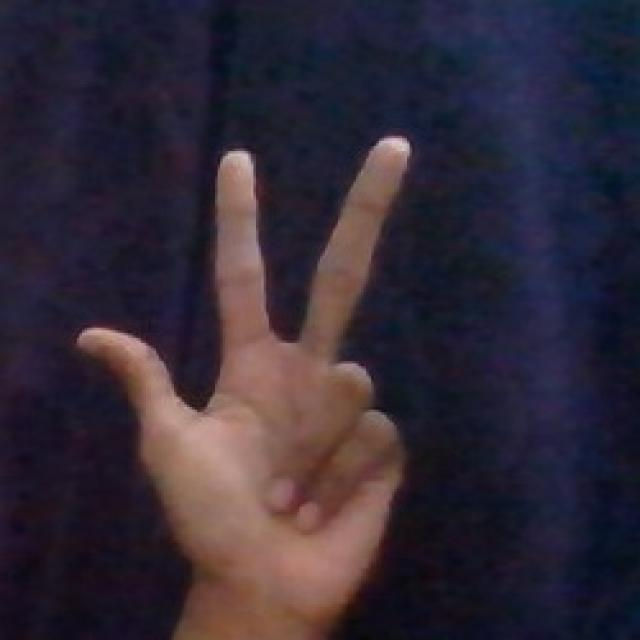Numeric-3: (74, 131, 418, 613)
